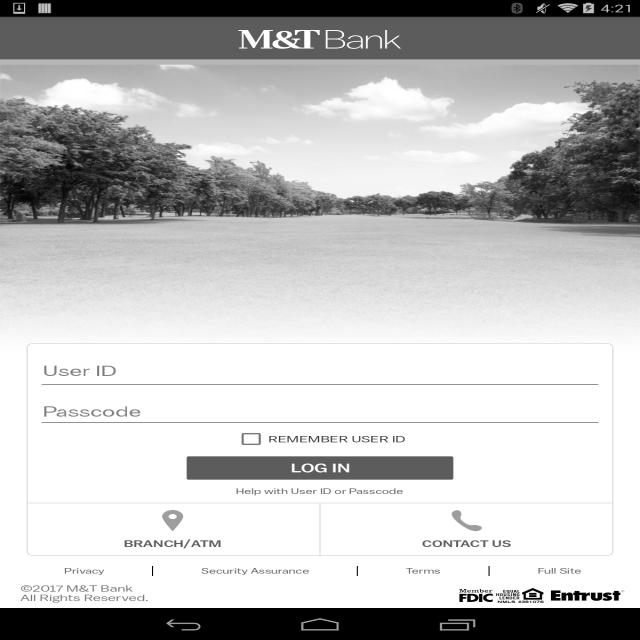Button: (187, 456, 453, 480)
CheckBox: (234, 428, 406, 450)
EditText: (37, 356, 603, 390), (37, 397, 603, 428)
ImageView: (0, 65, 640, 366), (238, 30, 402, 49), (544, 583, 629, 608), (455, 583, 496, 608), (449, 510, 484, 531), (496, 588, 544, 603), (156, 510, 190, 531)
TextView: (235, 480, 404, 502), (20, 583, 149, 603), (153, 566, 357, 576), (490, 566, 629, 576), (16, 566, 152, 576), (358, 566, 488, 576), (124, 538, 222, 549), (422, 538, 511, 549)
